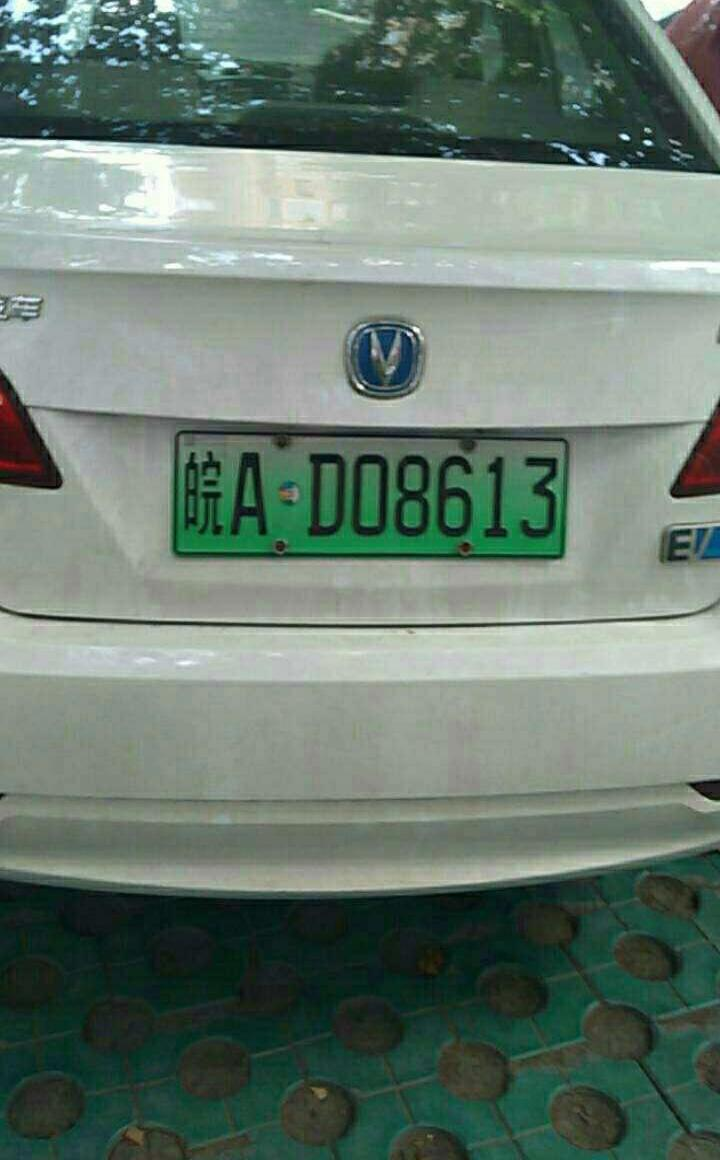car_id: (179, 428, 562, 551)
